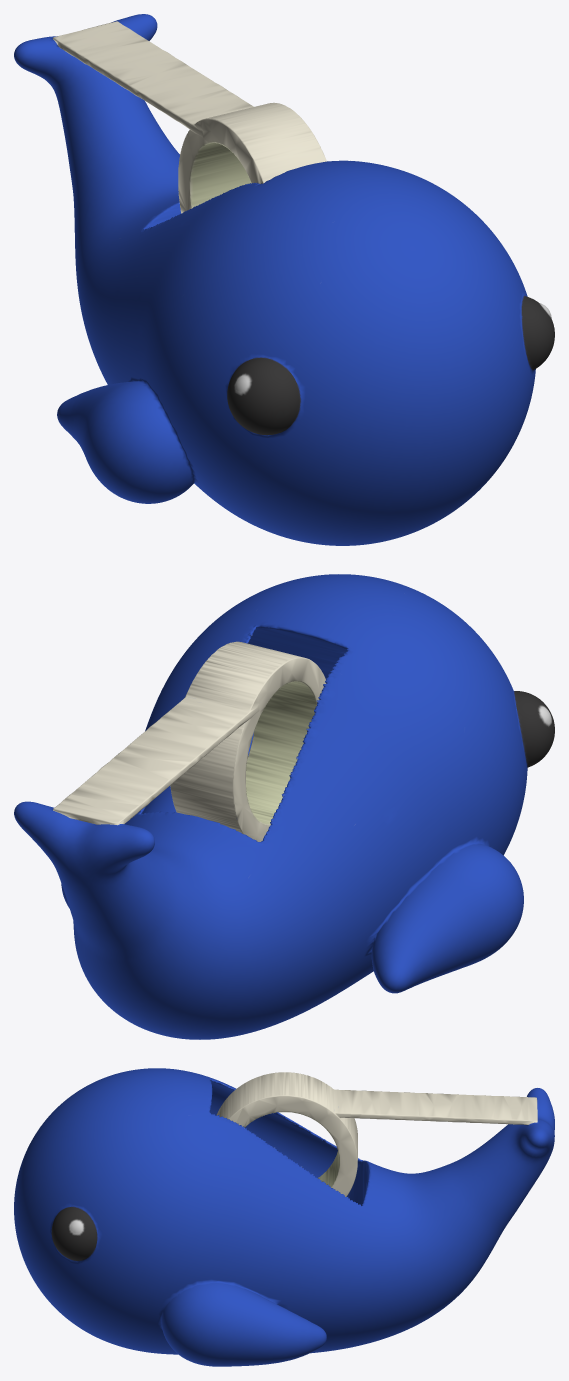
File: tape_whale.glb
The picture shows the model from 3 angles, top to bottom: view 1: azimuth 30°, elevation 25°; view 2: azimuth 150°, elevation 25°; view 3: azimuth 270°, elevation 25°; orthographic projection. The views are drawn at different scales.
Parts seen in each view (by area): view 1: Area (1); view 2: Area (1); view 3: Area (1).
Boxes of the visible parts, x1,y1,x2,y2 form: Area (1): (14,14,554,545); Area (1): (14,574,554,1039); Area (1): (14,1068,554,1366).
Size of the model in its own units: 221 by 179 by 334.
1 material, 1 textured.
